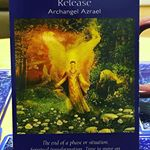other: (20, 83, 77, 123)
